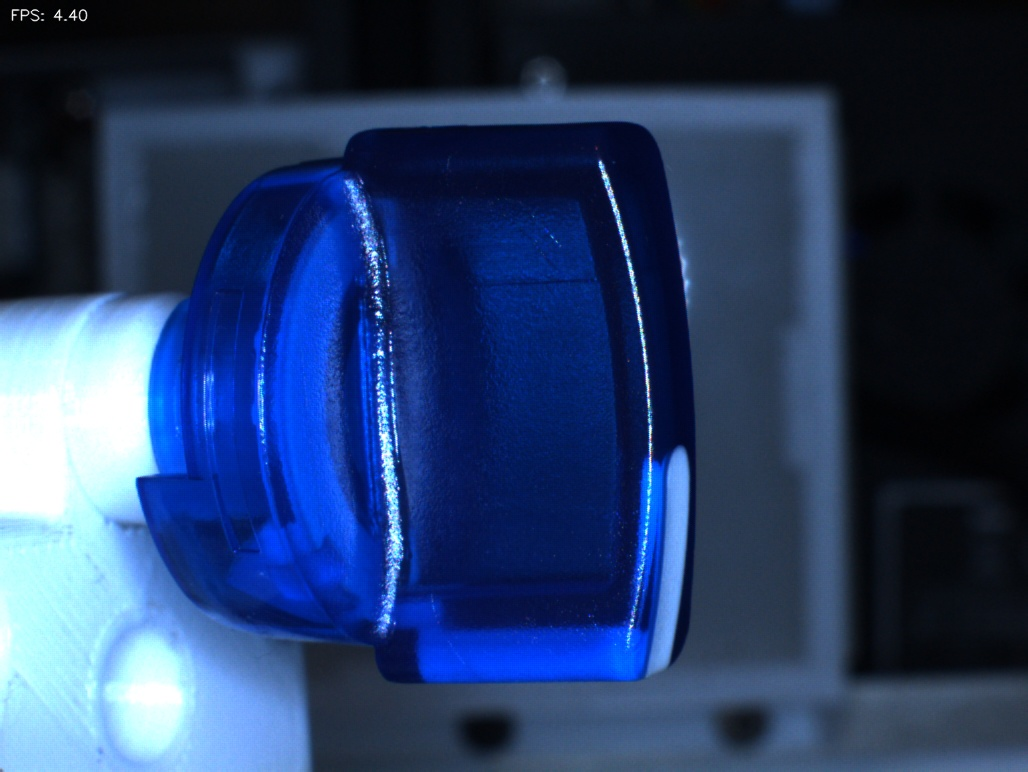Givrage: (436, 154, 573, 266)
